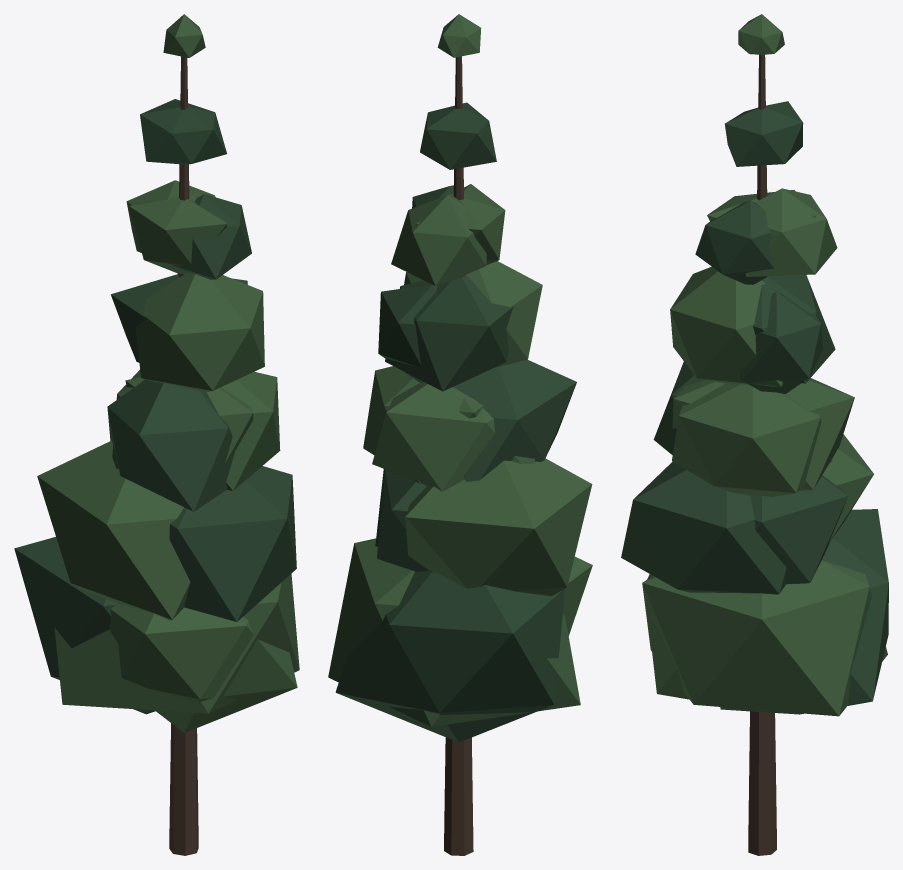
File: sugi_2.glb
3 renders of one model, left to right at view 1: azimuth 30°, elevation 25°; view 2: azimuth 150°, elevation 25°; view 3: azimuth 270°, elevation 25°, orthographic.
Parts seen in each view (by area): view 1: sugi_2; view 2: sugi_2; view 3: sugi_2.
Part boxes in pixels (x1,y1,x2,y2): sugi_2: (14,14,299,855); sugi_2: (328,14,592,855); sugi_2: (621,14,888,855).
Size of the model in its own units: 7.73 by 27.24 by 7.91.
